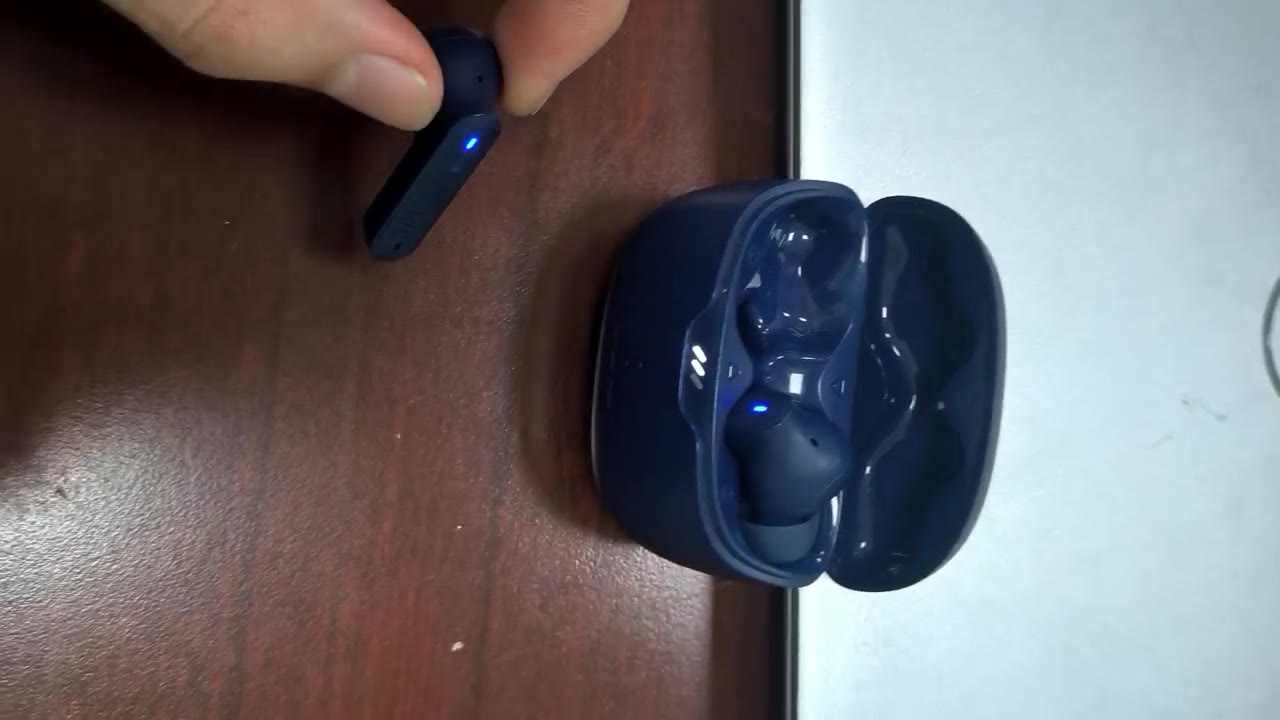Case: (596, 179, 1016, 600)
Earbud: (363, 28, 502, 257), (725, 387, 852, 562)
Empty_Slot: (729, 185, 887, 376)
